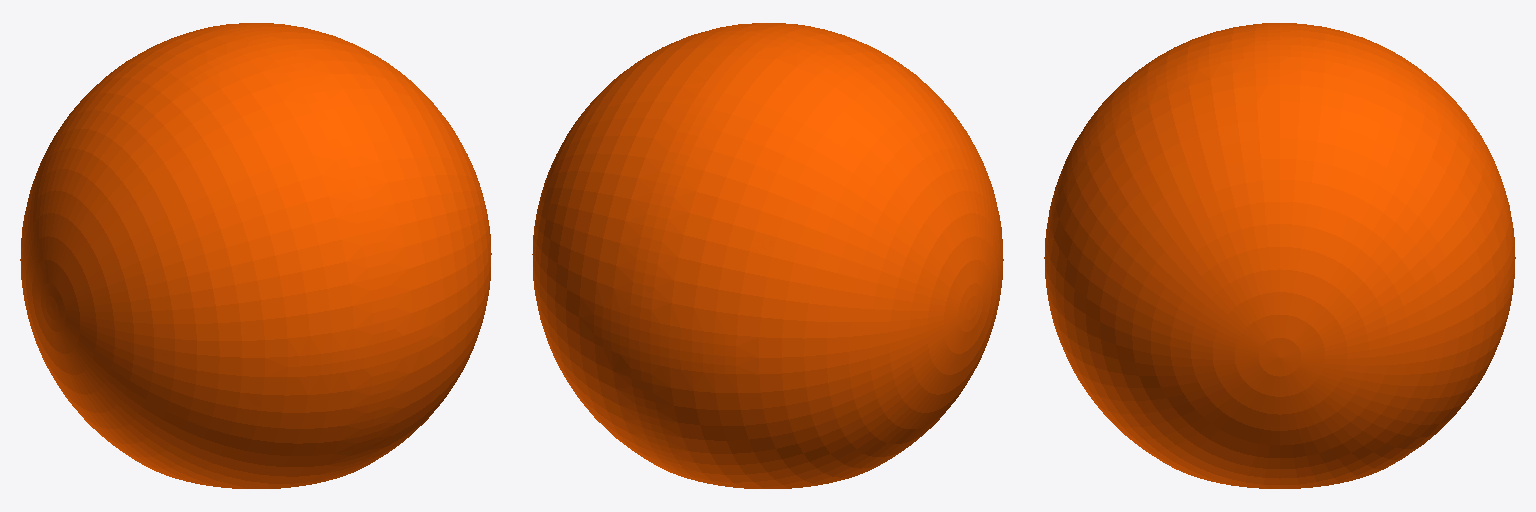
URDF robot description (spheresmall):
<?xml version="1.0" ?>
<robot name="spheresmall">
   <material name="obj_color">
      <color rgba="1.0 0.423529411765 0.0392156862745 1.0"/>
   </material>
   <link name="top">
      <inertial>
         <origin rpy="1.033472177922882e-05 1.033826863591288e-05 1.084328560080935e-05" xyz="5.539620182525612e-08 2.659606985253204e-07 -0.001470083313356885"/>
         <mass value="0.06551374018107349"/>
         <inertia ixx="1.033472186963908e-05" ixy="1.777556690082603e-11" ixz="-2.585587869880012e-11" iyy="1.033826854740154e-05" iyz="1.718011682403952e-11" izz="1.084328559891042e-05"/>
      </inertial>
      <visual>
         <origin rpy="0 0 0" xyz="0 0 0"/>
         <geometry>
            <mesh filename="top_watertight_tiny.stl" scale="1 1 1"/>
         </geometry>
         <material name="obj_color"/>
      </visual>
      <collision>
         <origin rpy="0 0 0" xyz="0 0 0"/>
         <geometry>
            <mesh filename="top_watertight_tiny.obj" scale="1 1 1"/>
         </geometry>
      </collision>
   </link>
   <link name="bottom">
      <inertial>
         <origin rpy="1.633333333194242e-08 1.633333333194243e-08 1.633333333357667e-08" xyz="0.3464080000000008 0.3464080000000008 0.3464080000000008"/>
         <mass value="0.0009800000000000017"/>
         <inertia ixx="1.633333333248717e-08" ixy="5.447480642029219e-19" ixz="5.447480642029219e-19" iyy="1.633333333248717e-08" iyz="5.447480642029219e-19" izz="1.633333333248717e-08"/>
      </inertial>
      <visual>
         <origin rpy="0 0 0" xyz="0 0 0"/>
         <geometry>
            <mesh filename="bottom_watertight_tiny.stl" scale="1 1 1"/>
         </geometry>
         <material name="obj_color"/>
      </visual>
   </link>
   <joint name="rotation" type="revolute">
      <origin xyz="0 0 0"/>
      <axis xyz="0 0 -1"/>
      <parent link="bottom"/>
      <child link="top"/>
      <dynamics damping="1.0" friction="1.0"/>
      <limit effort="0.1" velocity="0.1" lower="0" upper="0.001"/>
   </joint>
</robot>

--- Render facts (derived) ---
The picture shows the robot from 3 angles, left to right: view 1: azimuth 30°, elevation 25°; view 2: azimuth 150°, elevation 25°; view 3: azimuth 270°, elevation 25°; orthographic projection.
Robot: spheresmall — 2 links, 1 joints (1 revolute); root link bottom; default pose: every joint at zero.
Links seen in each view (by area): view 1: top; view 2: top; view 3: top.
Boxes of the visible links, <box> form: top: <box>20,23,491,488</box>; top: <box>532,23,1003,488</box>; top: <box>1044,23,1515,488</box>.
Size in the robot's own frame: 0.0404 by 0.0404 by 0.0365 metres.
Meshes: 2 distinct files referenced, 1 mesh visuals loaded (1 binary STL); not drawn: 1 (reference not matched to a file when rendering).
